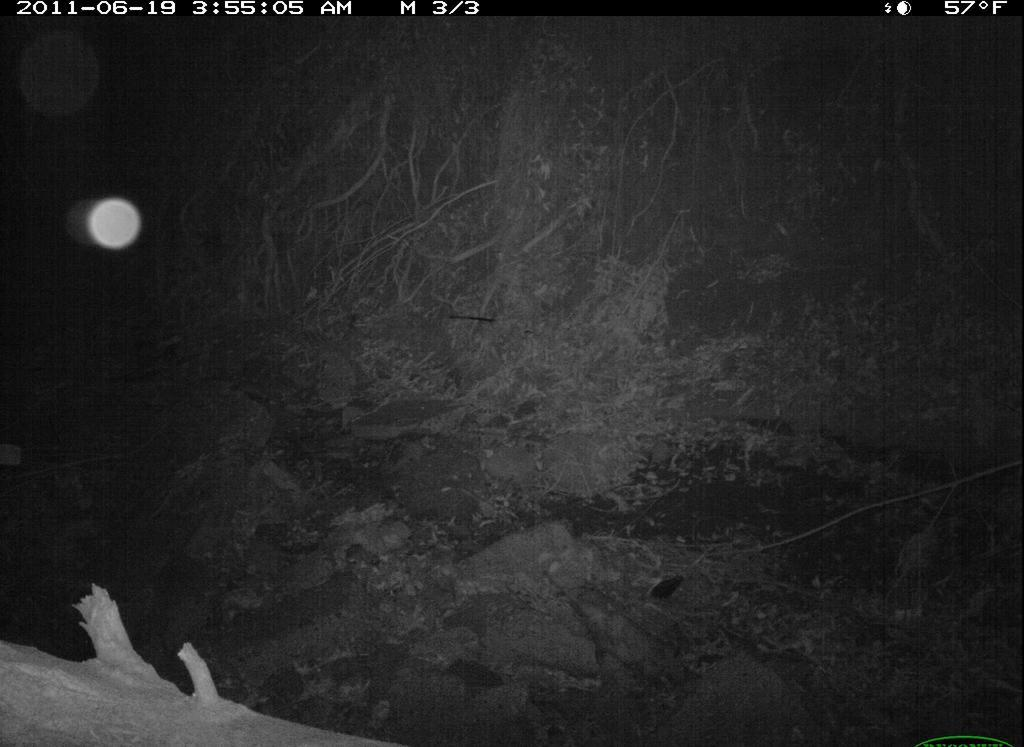opossum: (550, 561, 690, 701)
